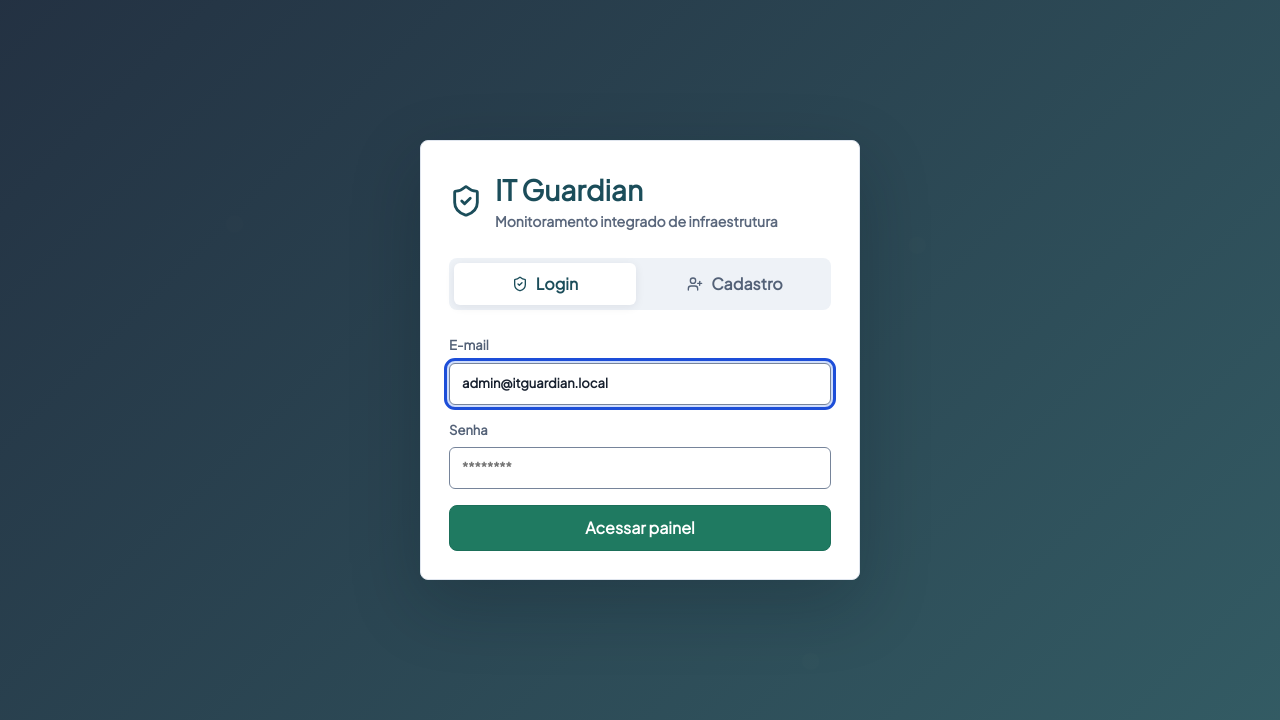
login com MFA › abre o passo do codigo com foco, teclado numerico e one-time-code
This screenshot has width=1280, height=720.
Replace the text in the field labelled "E-mail" with "ana@empresa.com": (640, 384) [449,362,831,404]
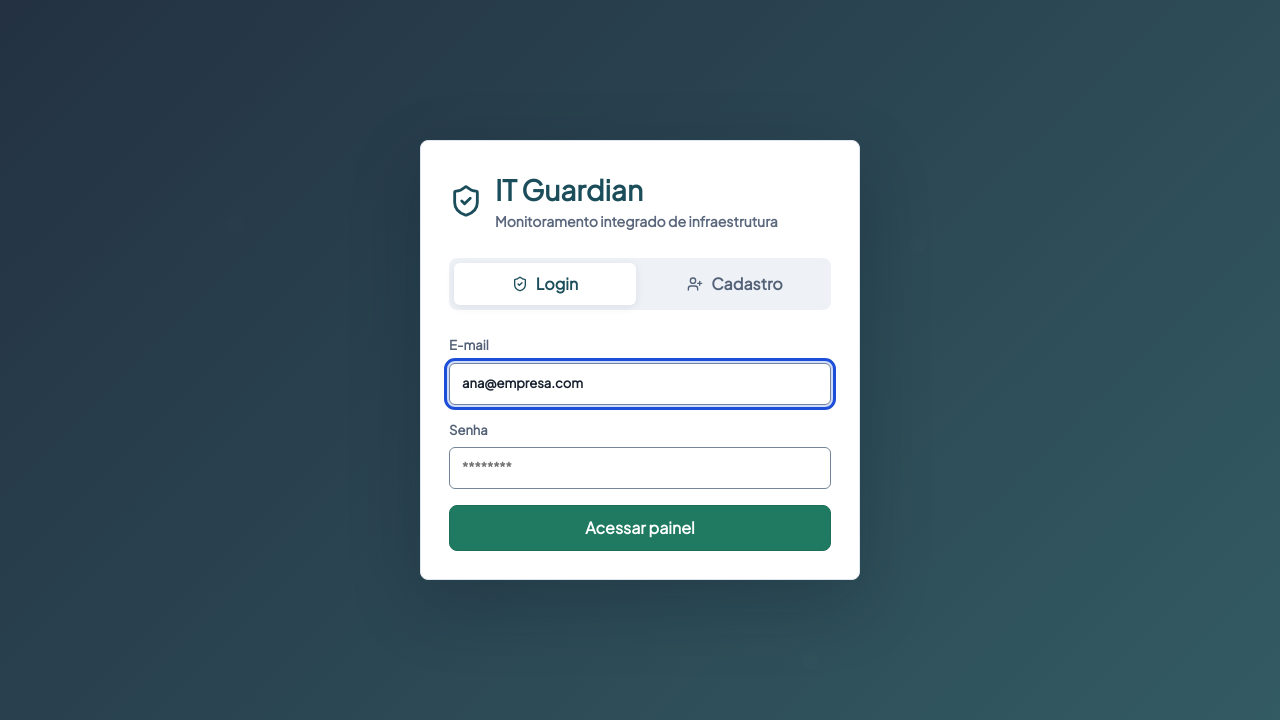
In the password field labelled "Senha": (640, 468) [449,447,831,489], type "senha-correta-123"
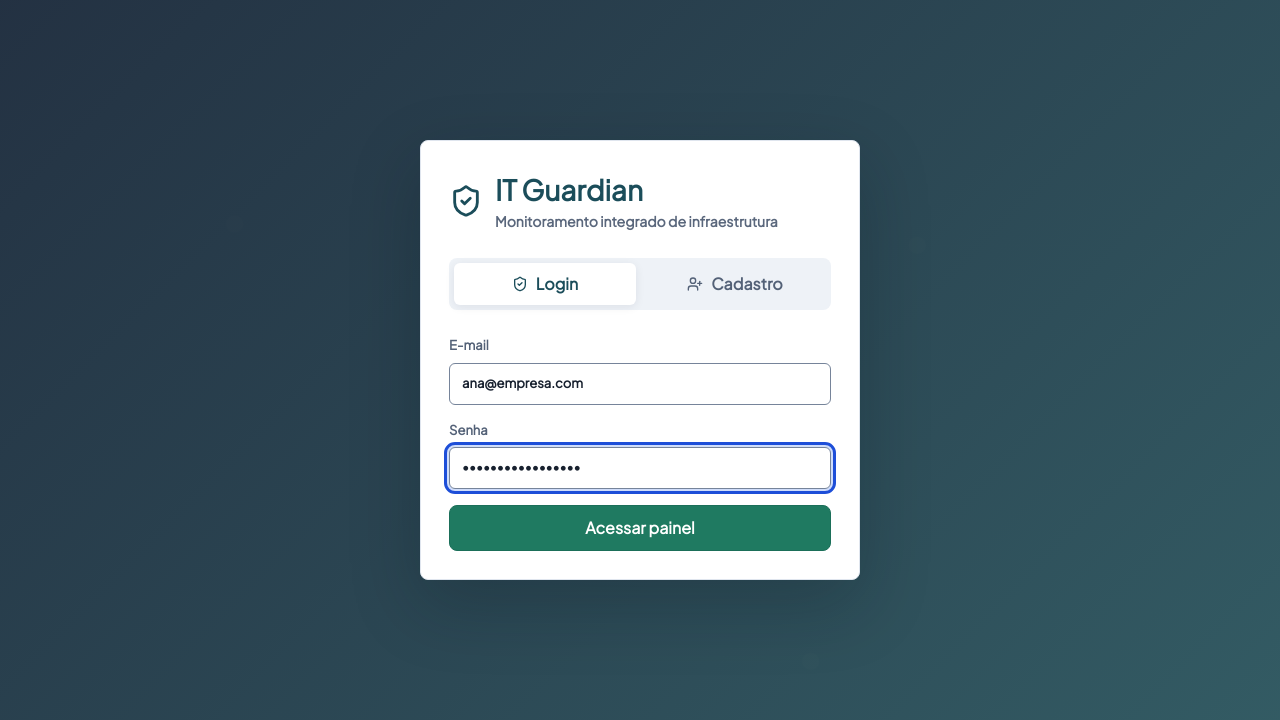
Click the button "Acessar painel": (640, 528) [449,505,831,551]
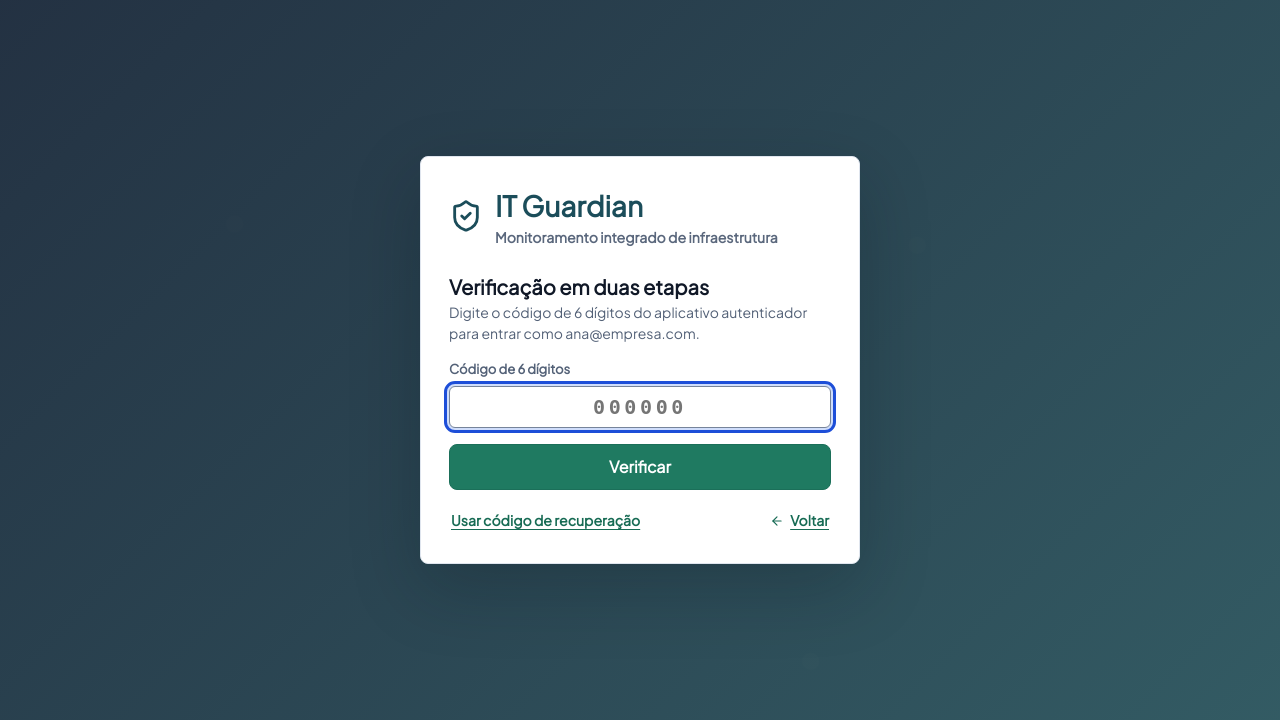
Expected: the heading "Verificação em duas etapas" is shown, [449,274,709,299]
Expected: the label labelled "Senha" is gone
